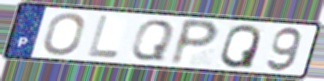9: (265, 25, 303, 72)
L: (85, 14, 121, 60)
O: (41, 12, 86, 57)
P: (167, 17, 222, 68)
Q: (218, 23, 264, 70), (128, 18, 177, 62)
